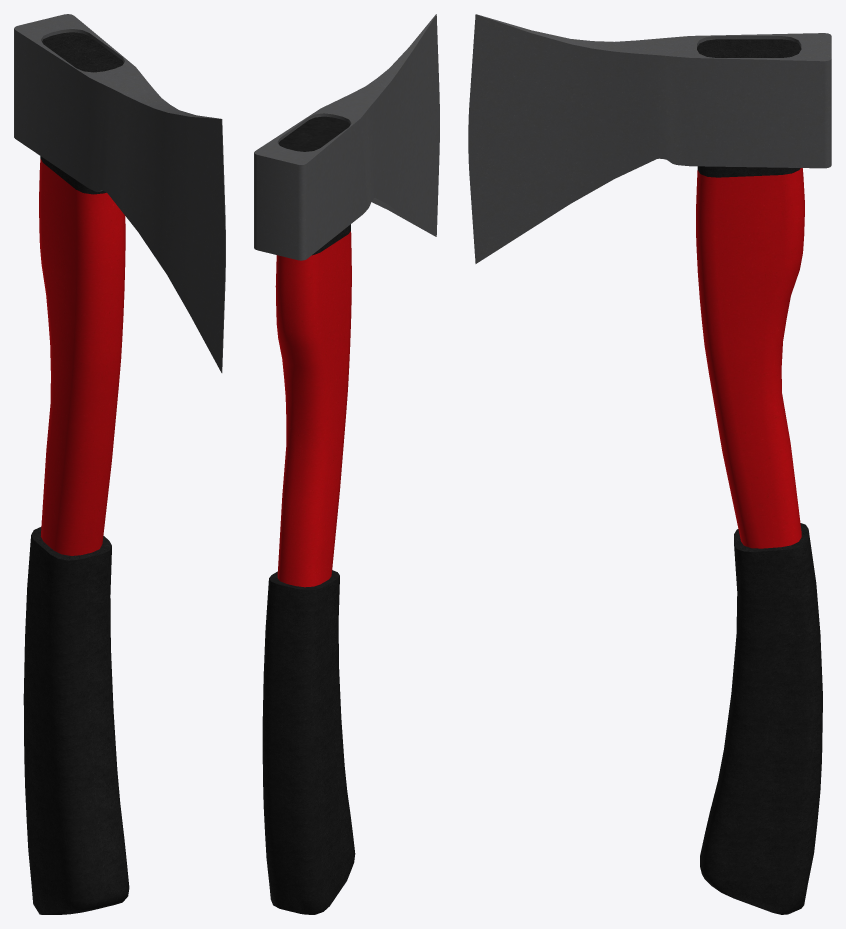
Rendered from axe.glb.
The picture shows the model from 3 angles, left to right: view 1: azimuth 30°, elevation 25°; view 2: azimuth 150°, elevation 25°; view 3: azimuth 270°, elevation 25°; orthographic projection. The views are drawn at different scales.
Parts seen in each view (by area): view 1: axe; view 2: axe; view 3: axe.
Boxes of the visible parts, x1,y1,x2,y2 form: axe: (14, 14, 225, 914); axe: (254, 14, 439, 914); axe: (468, 14, 831, 914).
Bounding box in the file's own units: 0.0248 × 0.3634 × 0.1342.
Materials: 1 (1 with a texture image).
